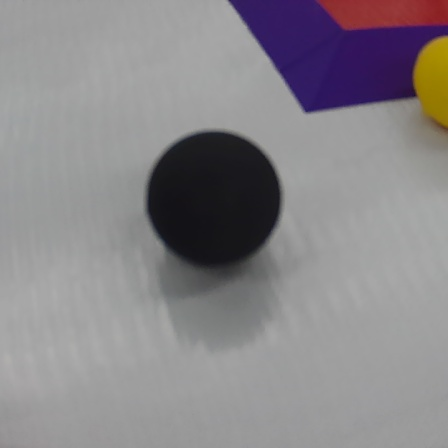black: (145, 130, 287, 275)
red_aim: (216, 1, 448, 119)
yellow: (403, 28, 448, 132)
